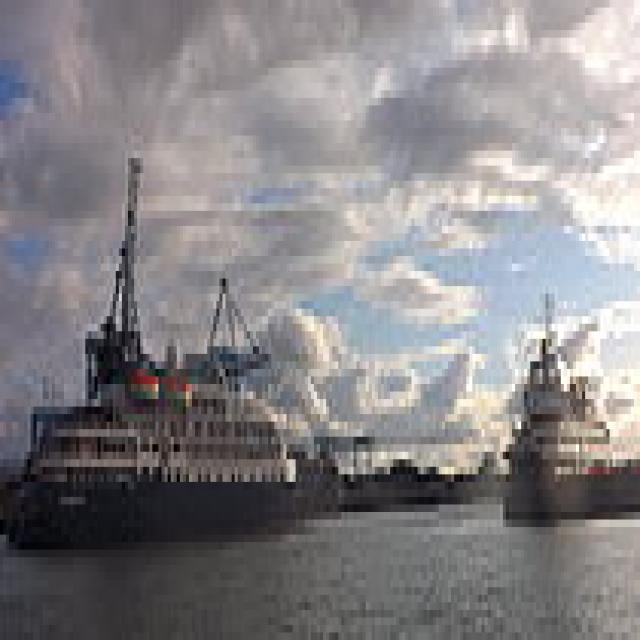Ship: (13, 310, 315, 551)
